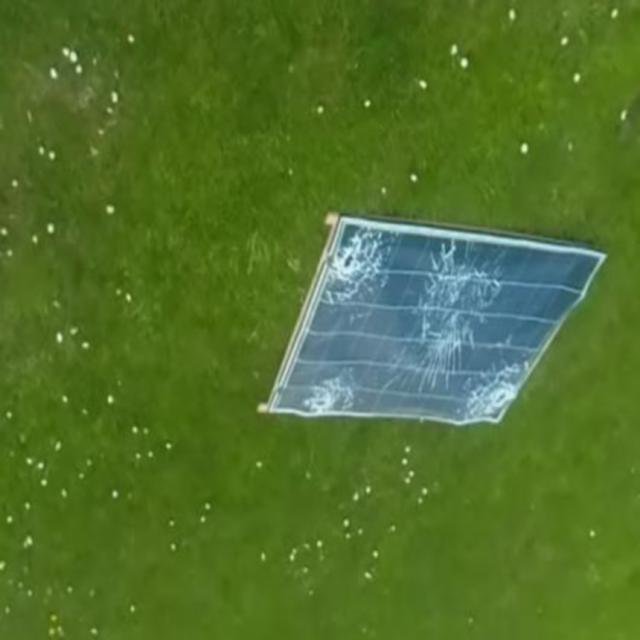cracked: (262, 210, 604, 434)
